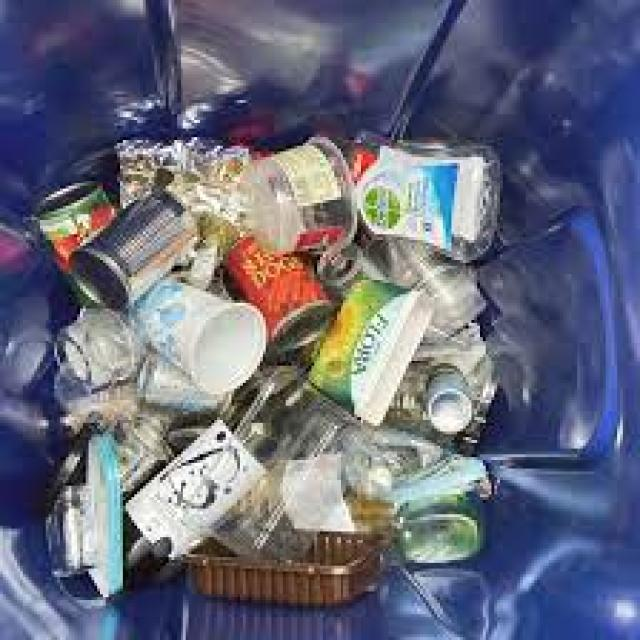hop_nhua: (214, 380, 357, 556), (311, 280, 434, 424), (357, 149, 500, 261), (249, 137, 357, 253), (57, 309, 140, 390)
kim_loai: (229, 237, 334, 353), (34, 183, 117, 273)
nhom: (71, 191, 194, 310)
nhua: (186, 534, 391, 607)
